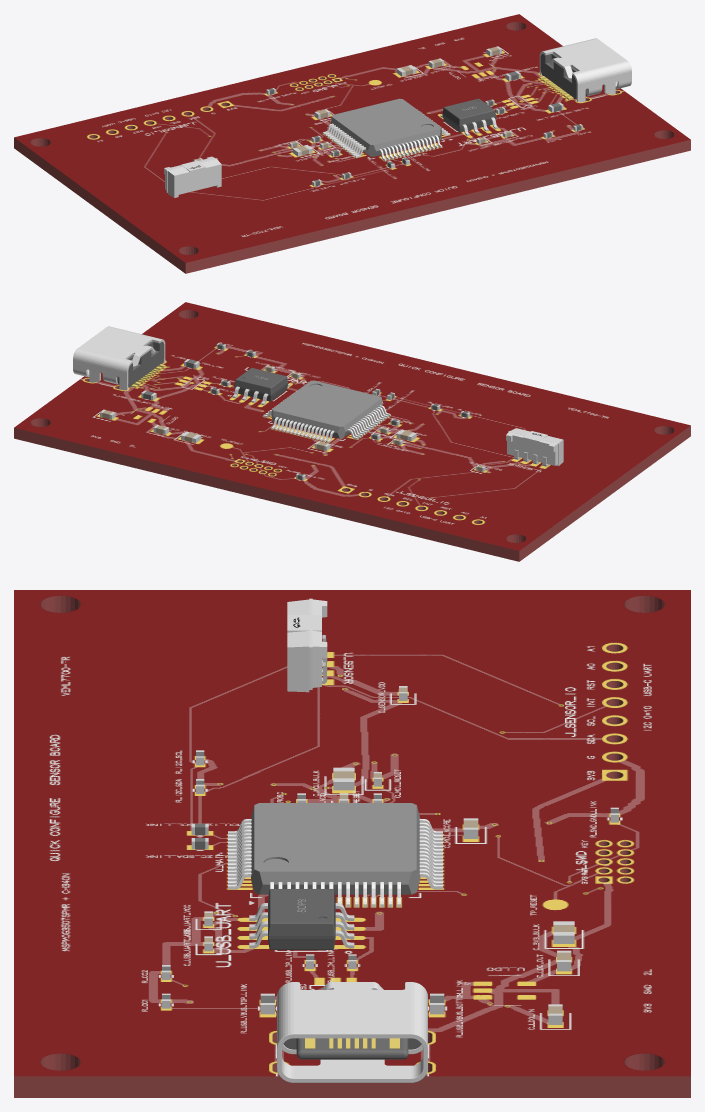
3 views of the same model, one above another, from view 1: azimuth 30°, elevation 25°; view 2: azimuth 150°, elevation 25°; view 3: azimuth 270°, elevation 25° (orthographic). The views are drawn at different scales.
Parts seen in each view (by area): view 1: Box0, U_MAIN, J_USB, U_SENSOR, U_USB_UART; view 2: Box0, U_MAIN, J_USB, U_SENSOR, U_USB_UART; view 3: Box0, U_MAIN, J_USB, U_USB_UART, U_SENSOR.
Part boxes in pixels (x1,y1,x2,y2): Box0: (14,14,690,273); U_MAIN: (322,98,450,161); J_USB: (539,38,631,102); U_SENSOR: (164,156,221,197); U_USB_UART: (440,98,498,135); Box0: (14,302,690,561); U_MAIN: (263,380,390,442); J_USB: (73,326,165,390); U_SENSOR: (506,428,563,466); U_USB_UART: (232,368,290,404); Box0: (14,590,690,1097); U_MAIN: (228,803,442,907); J_USB: (277,982,427,1082); U_USB_UART: (249,889,354,949); U_SENSOR: (287,598,327,692).
Bounding box in the file's own units: 69.04 × 4.65 × 40.
19 materials, 2 textured.
